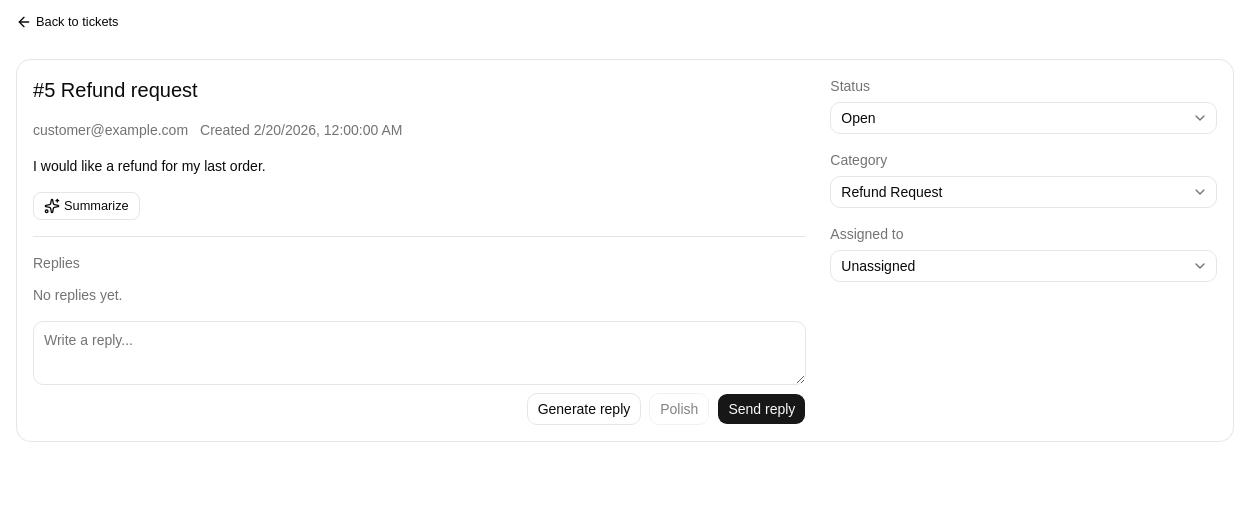
Scenario: TicketDetailPage › shows the new reply once ReplyForm's mutation succeeds and the ticket query refetches
Expected: the text "#5 Refund request" is shown, x1=33 y1=79 x2=198 y2=101
Expected: the text "No replies yet." is shown, x1=33 y1=287 x2=122 y2=303
In the text box labelled "reply": (420, 353) x1=33 y1=321 x2=806 y2=385, type "Thanks!"
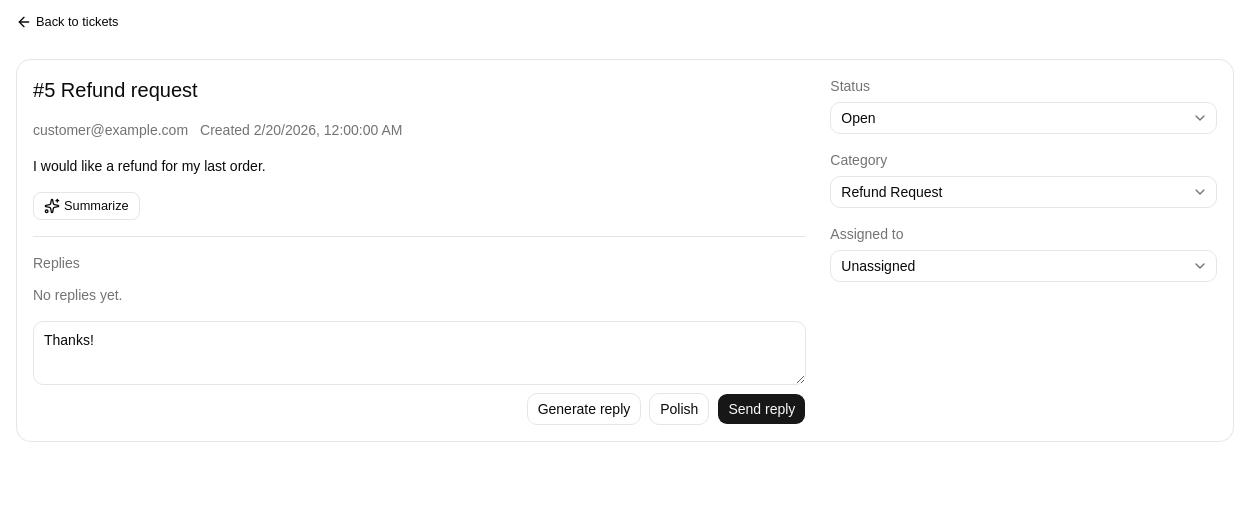
Click the button "Send reply": (762, 409) x1=717 y1=393 x2=806 y2=425
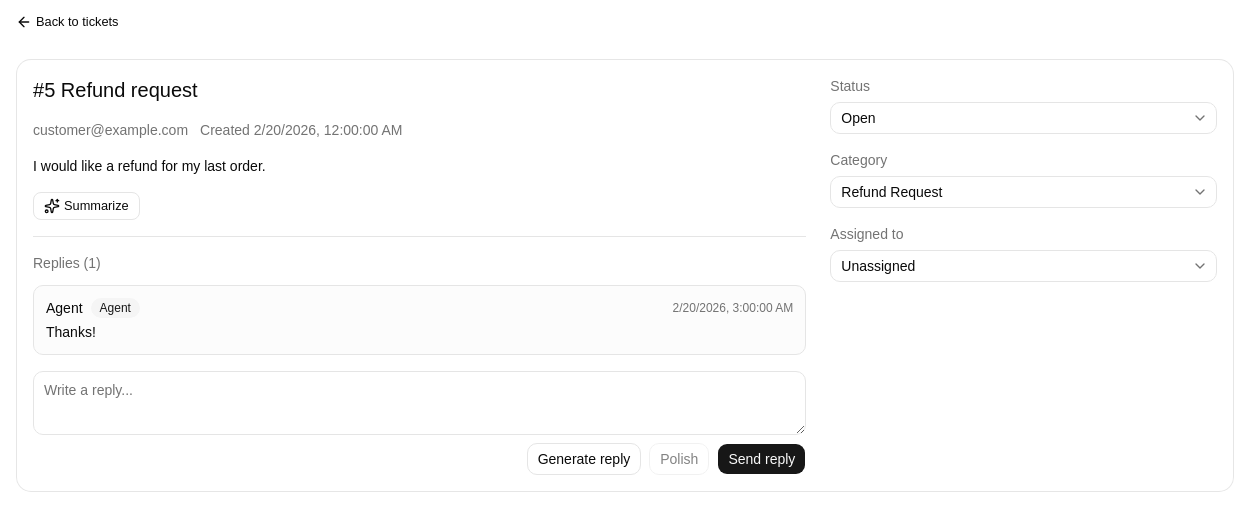
Now the text "Thanks!" is shown, box x1=46 y1=324 x2=96 y2=340
Now the text "No replies yet." is gone
